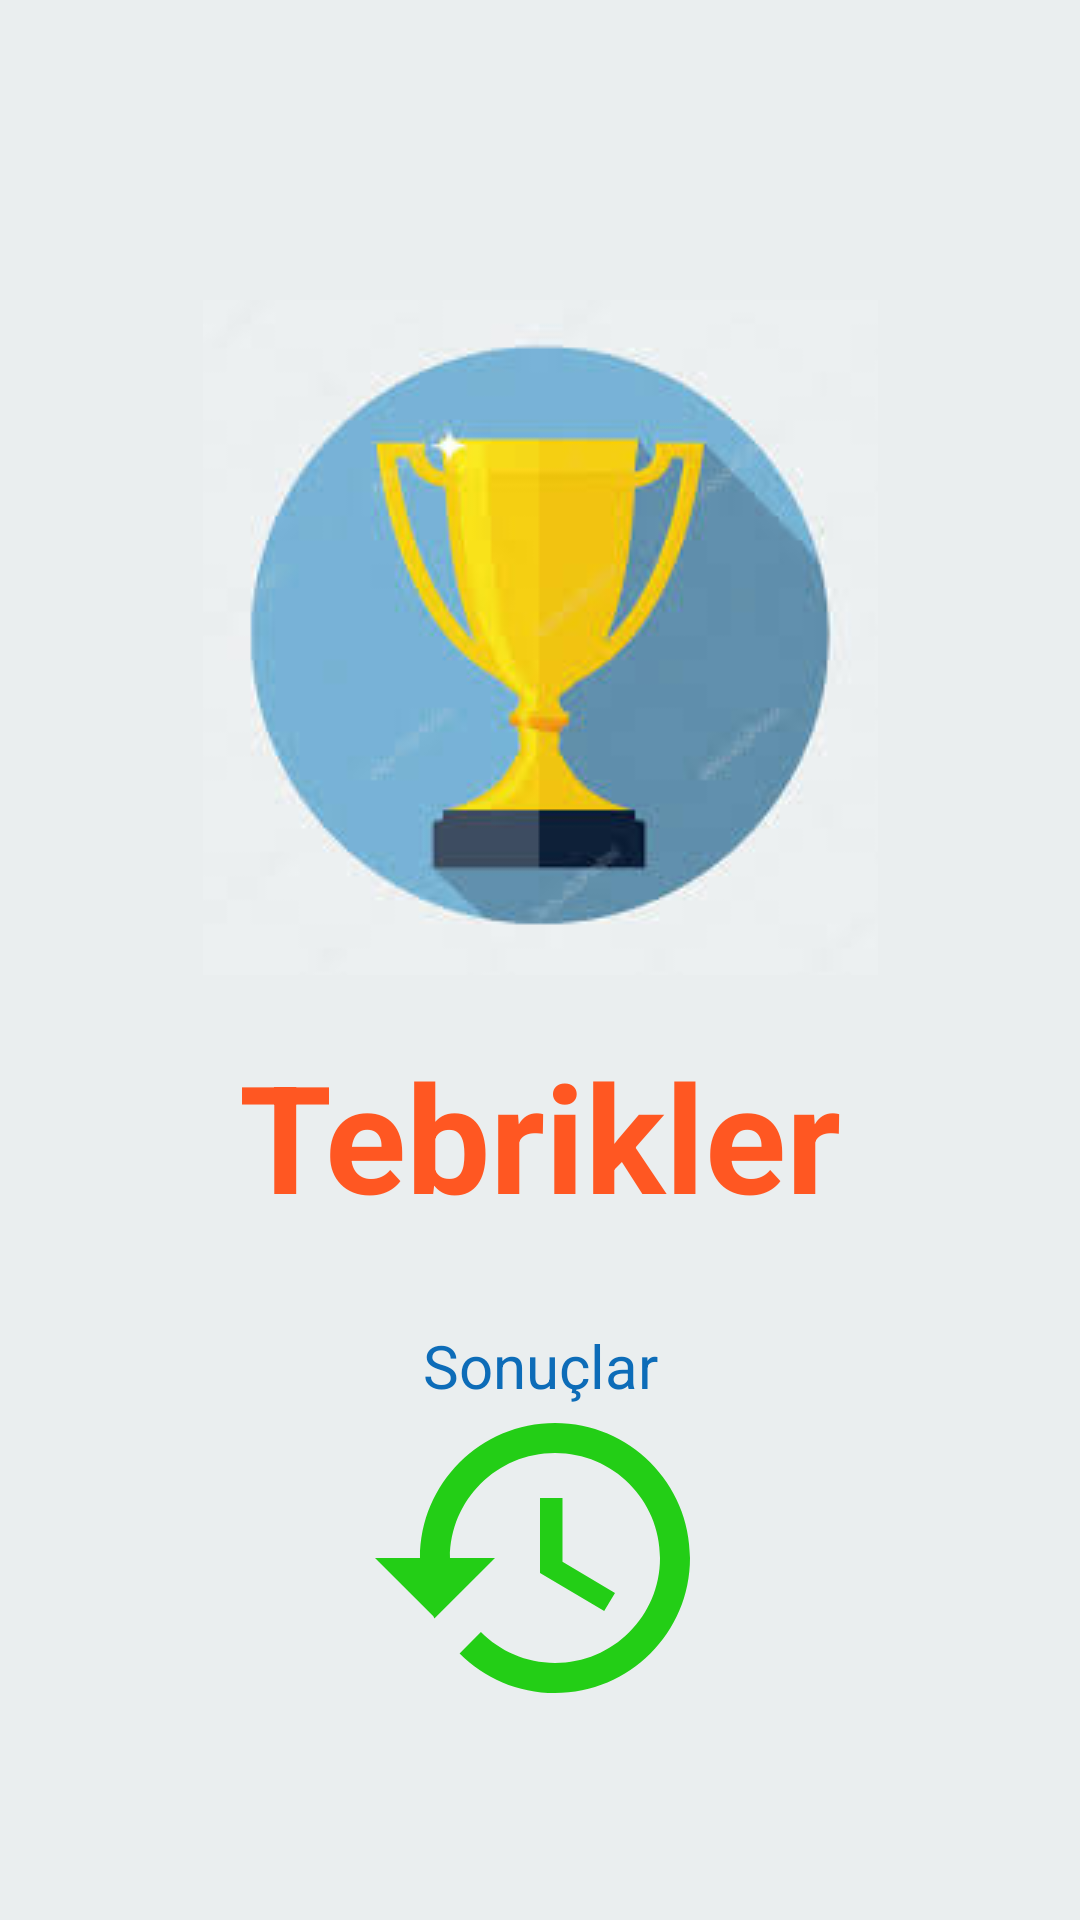

Icon bounding boxes for this 1080×1920 phone screenshot, format (x1, y1, x2, y2):
restore: (375, 1423, 690, 1693)
